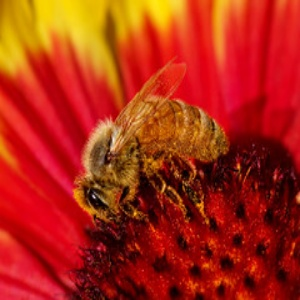bee: (72, 57, 230, 229)
